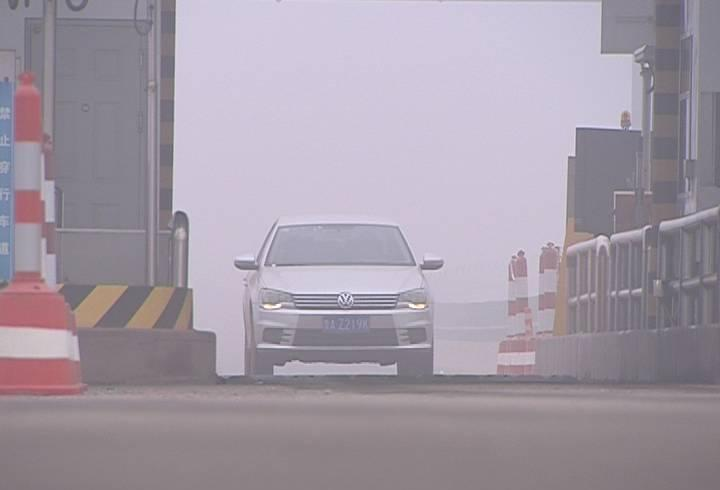car: (231, 214, 446, 380)
